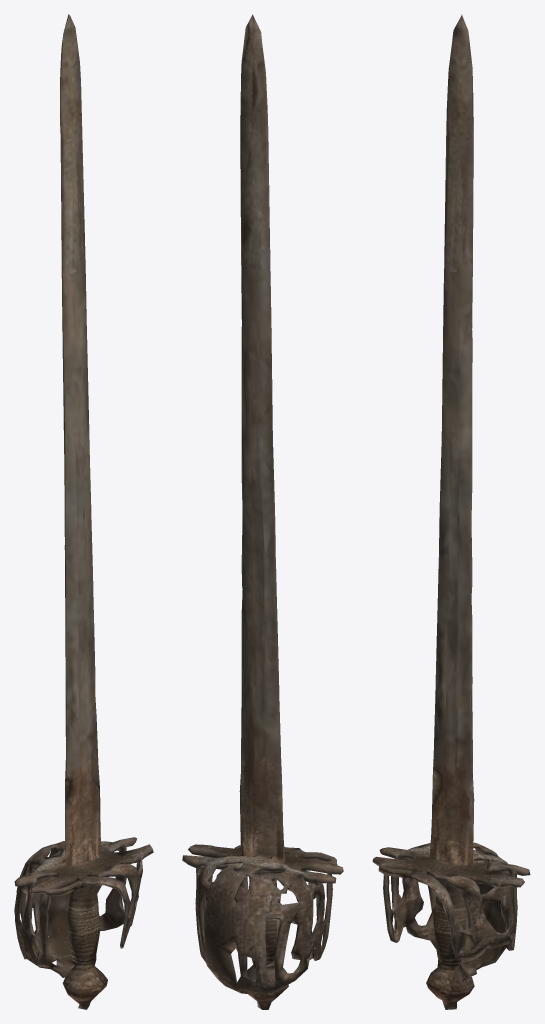
The model's file is 1249_rapier.glb.
3 renders of one model, left to right at view 1: azimuth 30°, elevation 25°; view 2: azimuth 150°, elevation 25°; view 3: azimuth 330°, elevation 25°, orthographic. The views are drawn at different scales.
Visible parts, largest first — view 1: Model; view 2: Model; view 3: Model.
Part boxes in pixels (box(x1,y1,x2,y2)): Model: box(14, 14, 153, 1009); Model: box(182, 14, 343, 1009); Model: box(372, 14, 530, 1009).
Size of the model in its own units: 0.1494 by 1 by 0.1114.
Materials: 1 (1 with a texture image).
